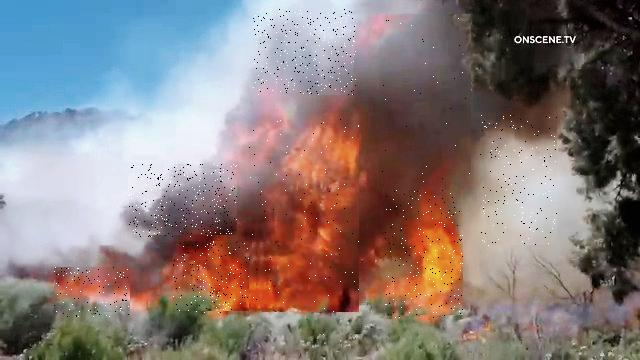fire: (249, 116, 359, 312), (385, 191, 463, 319), (173, 242, 249, 314), (54, 268, 130, 318)
smoke: (379, 15, 471, 183), (480, 116, 557, 248), (253, 9, 356, 95), (129, 165, 237, 238)
